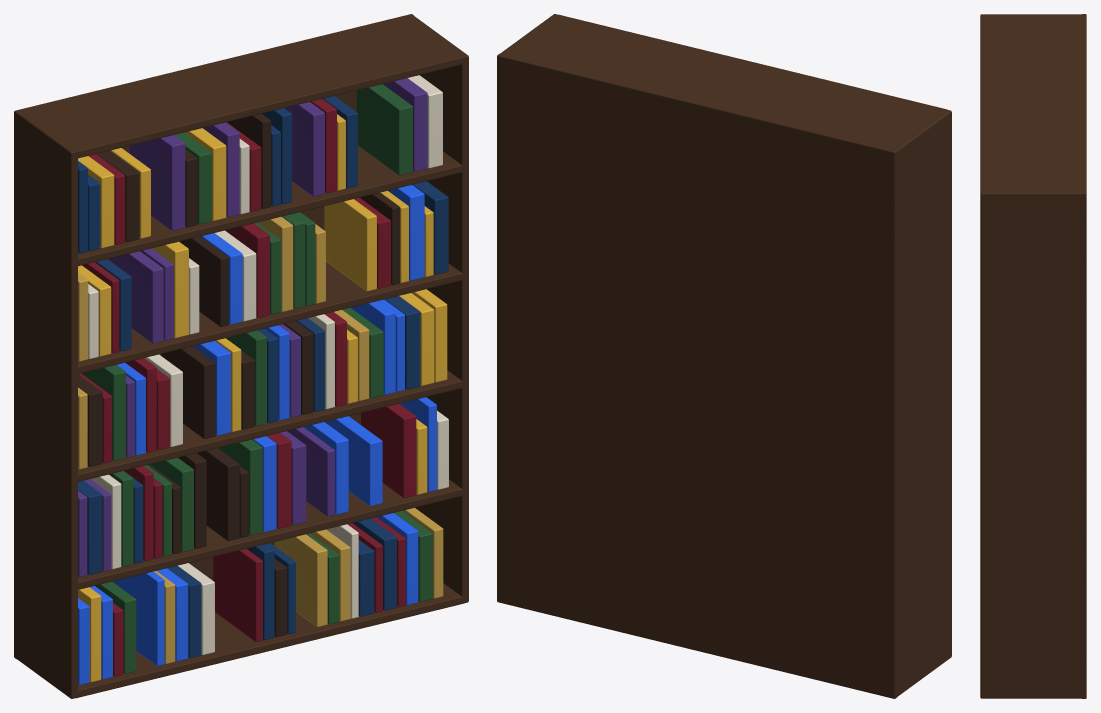
The model's file is bookshelf.glb.
3 views of the same model, side by side, from view 1: azimuth 30°, elevation 25°; view 2: azimuth 150°, elevation 25°; view 3: azimuth 270°, elevation 25° (orthographic). The views are drawn at different scales.
Parts seen in each view (by area): view 1: Cube, Cube.012, Cube.009, Cube.013, Cube.021, Cube.034, Cube.017, Cube.010, Cube.018, Cube.015; view 2: Cube; view 3: Cube.
Part boxes in pixels (x1,y1,x2,y2): Cube: (14,14,468,698); Cube.012: (78,99,416,676); Cube.009: (78,185,436,685); Cube.013: (81,84,432,673); Cube.021: (78,113,399,637); Cube.034: (78,78,427,577); Cube.017: (78,96,448,658); Cube.010: (78,114,447,682); Cube.018: (88,75,448,654); Cube.015: (78,216,443,663); Cube: (497,14,951,698); Cube: (980,14,1086,698).
Size of the model in its own units: 1.6 by 2.1 by 0.4.
